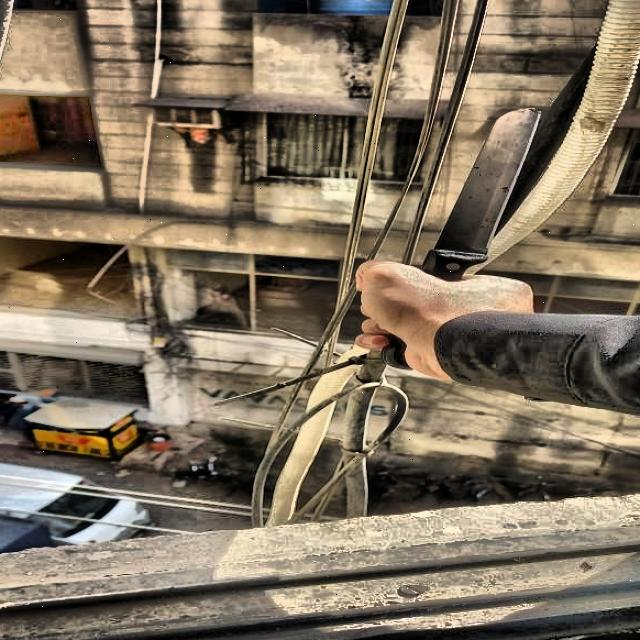knife: (384, 108, 540, 372)
